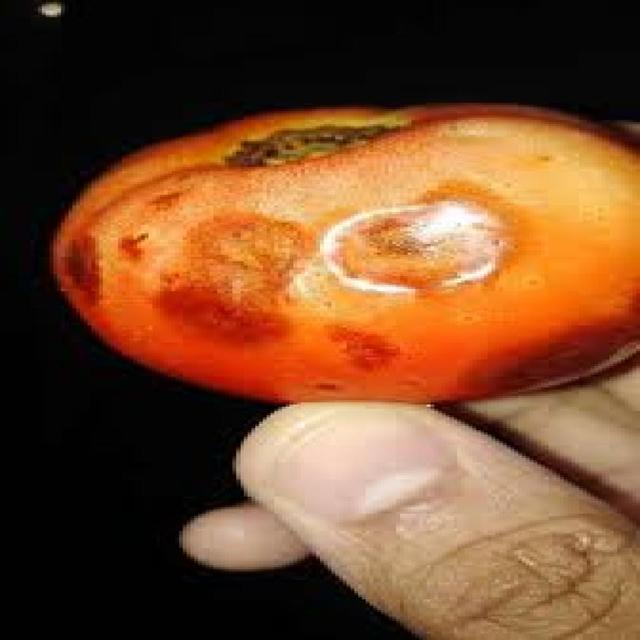Spotted wilt Virus Fruit: (34, 54, 67, 212)
